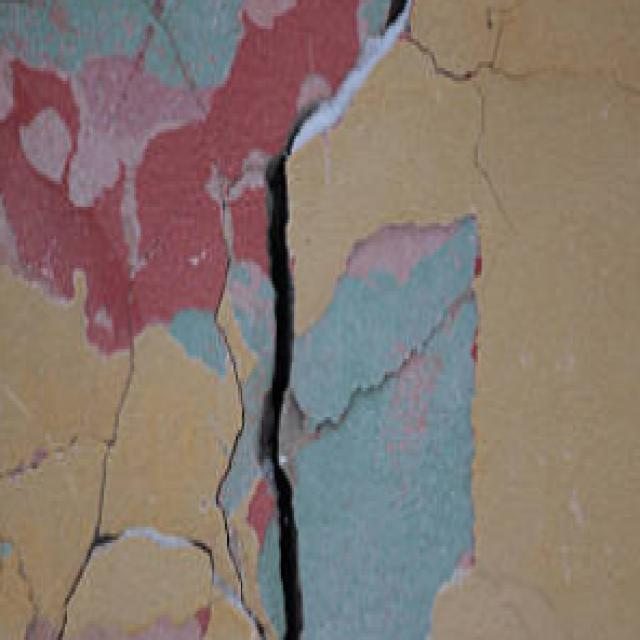branched cracks: (51, 308, 151, 639)
